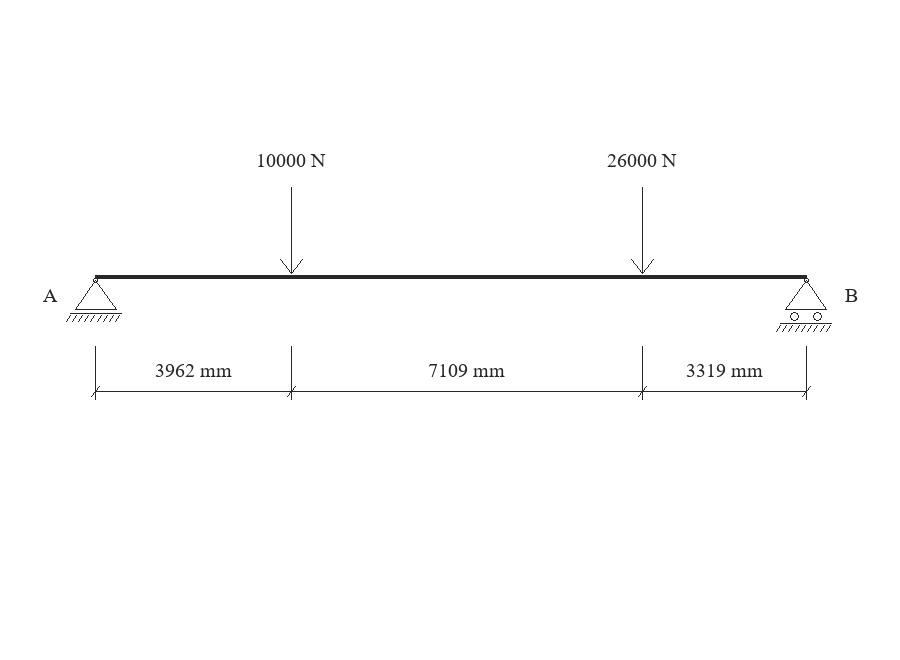pin_support: (66, 278, 122, 322)
point_load: (280, 187, 303, 274), (631, 187, 654, 274)
roller_support: (776, 278, 832, 332)
